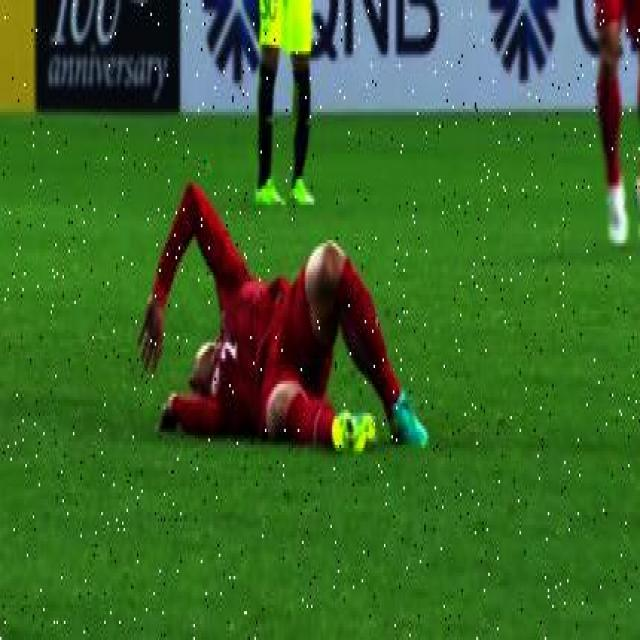fall: (142, 195, 424, 474)
